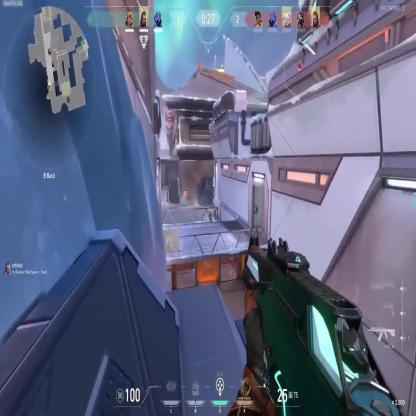enemy: (209, 211, 212, 222)
enemy_head: (210, 211, 212, 215)
